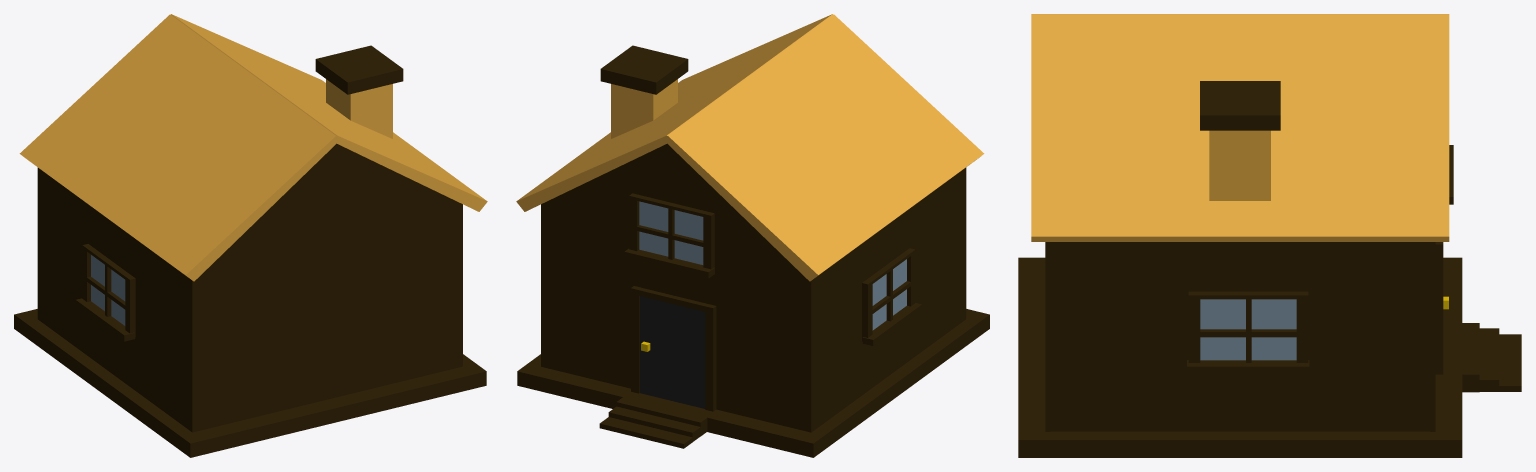
Rendered from Yellow Roof House FBX.fbx.
The picture shows the model from 3 angles, left to right: view 1: azimuth 30°, elevation 25°; view 2: azimuth 150°, elevation 25°; view 3: azimuth 270°, elevation 25°; orthographic projection. The views are drawn at different scales.
Parts seen in each view (by area): view 1: pCube5; view 2: pCube5; view 3: pCube5.
Part boxes in pixels (x1=…): pCube5: x1=14, y1=14, x2=487, y2=457; pCube5: x1=516, y1=14, x2=989, y2=457; pCube5: x1=1018, y1=14, x2=1521, y2=457.
Bounding box in the file's own units: 7.12 × 6.34 × 8.15.
